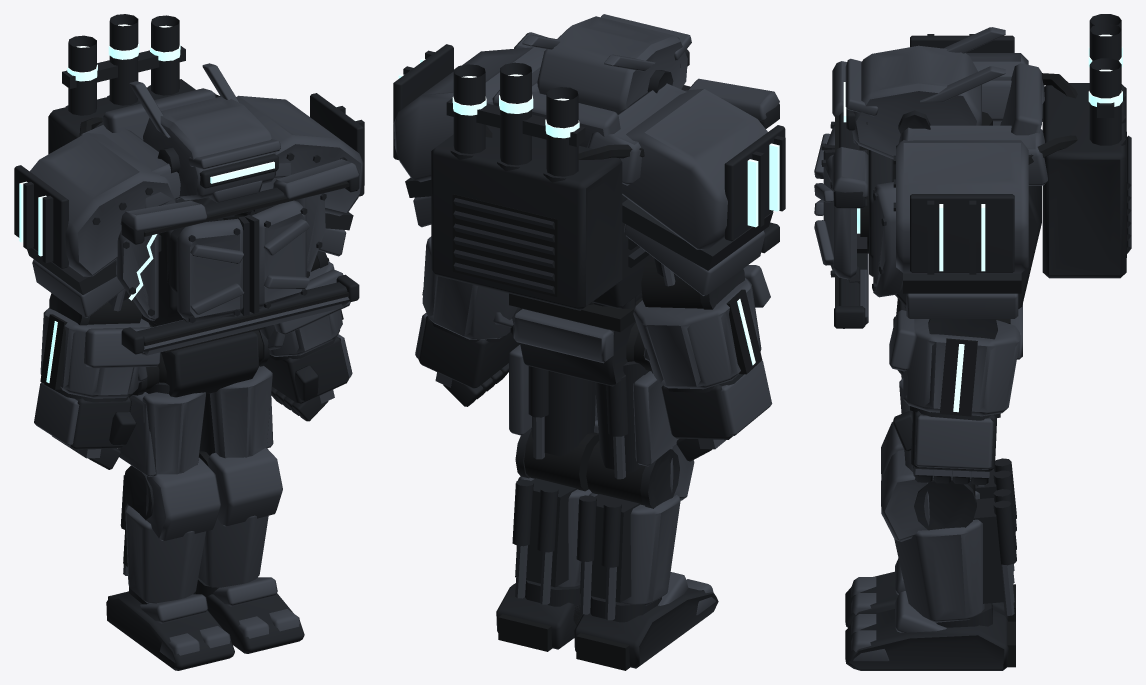
The model's file is guardian.fbx.
The picture shows the model from 3 angles, left to right: view 1: azimuth 30°, elevation 25°; view 2: azimuth 150°, elevation 25°; view 3: azimuth 270°, elevation 25°; orthographic projection. The views are drawn at different scales.
Parts seen in each view (by area): view 1: chest, clavicle_R, head, shin_R, forearm_R, shin_L, clavicle_L, plate_R, foot_R, thigh_R, hips, plate_L (+5 smaller); view 2: chest, clavicle_R, shin_R, forearm_R, head, shin_L, clavicle_L, hips, foot_R, thigh_R, thigh_L, hand_R (+3 smaller); view 3: chest, clavicle_L, shin_L, head, forearm_L, foot_L, hand_L, plate_L, foot_R, clavicle_R, shin_R, plate_R.
Boxes of the visible parts, x1,y1,x2,y2 form: chest: (48,14,359,355); clavicle_R: (14,133,179,317); head: (129,63,280,202); shin_R: (120,457,221,604); forearm_R: (40,293,160,402); shin_L: (196,448,282,598); clavicle_L: (236,93,364,256); plate_R: (177,215,249,323); foot_R: (106,591,234,670); thigh_R: (118,353,205,476); hips: (132,318,284,397); plate_L: (244,200,309,313); chest: (431,32,779,310); clavicle_R: (622,89,785,295); shin_R: (576,441,694,622); forearm_R: (633,255,770,392); head: (522,14,691,113); shin_L: (512,420,599,606); clavicle_L: (393,44,543,227); hips: (493,293,653,386); foot_R: (574,572,718,670); thigh_R: (595,322,678,479); thigh_L: (509,344,597,459); hand_R: (661,360,772,461); chest: (832,14,1131,328); clavicle_L: (893,140,1028,318); shin_L: (881,450,1016,627); head: (843,27,1005,159); forearm_L: (889,310,1019,420); foot_L: (845,591,1015,670); hand_L: (893,411,996,485); plate_L: (814,149,860,284); foot_R: (845,558,1015,627); clavicle_R: (910,34,1028,125); shin_R: (881,421,1016,583); plate_R: (814,121,834,215).
Size of the model in its own units: 3.34 by 5.55 by 2.62.
